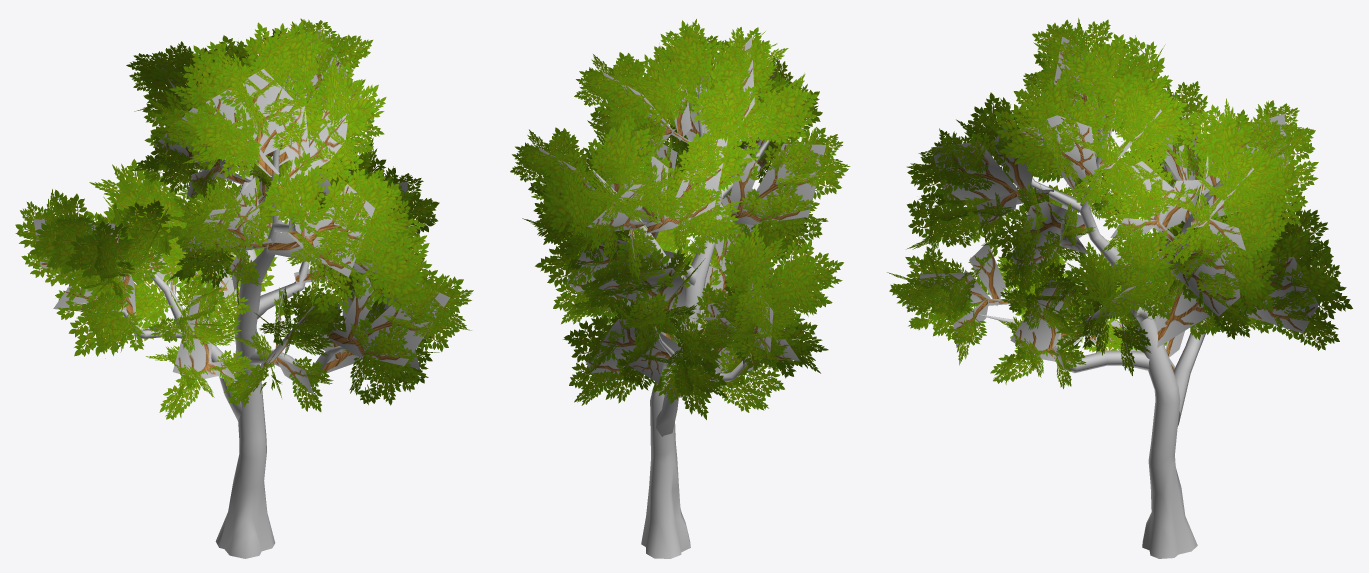
The model's file is Tree_01.fbx.
3 views of the same model, side by side, from view 1: azimuth 30°, elevation 25°; view 2: azimuth 150°, elevation 25°; view 3: azimuth 270°, elevation 25° (orthographic). The views are drawn at different scales.
Parts seen in each view (by area): view 1: Plane.035, Cube.001; view 2: Plane.035, Cube.001; view 3: Plane.035, Cube.001.
Part boxes in pixels (x1,y1,x2,y2): Plane.035: [15, 18, 473, 419]; Cube.001: [80, 75, 345, 558]; Plane.035: [510, 19, 850, 419]; Cube.001: [592, 76, 798, 558]; Plane.035: [887, 18, 1352, 388]; Cube.001: [978, 81, 1228, 558].
Size of the model in its own units: 533 by 771 by 646.
